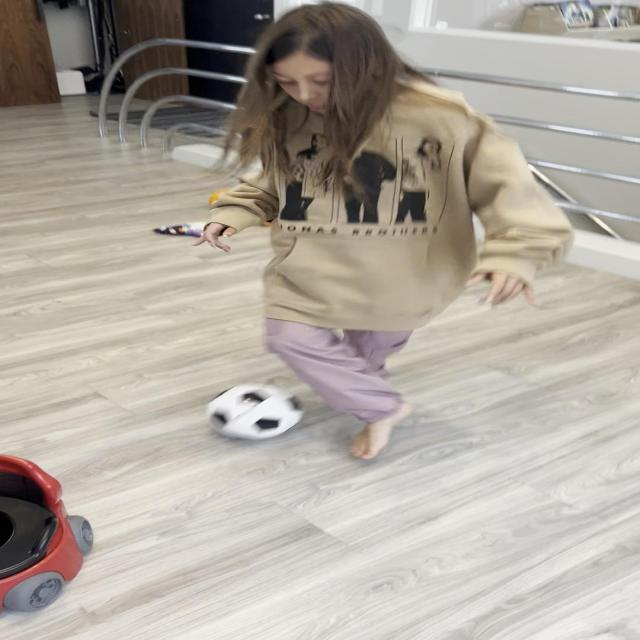Soccer Ball: (207, 383, 306, 441)
